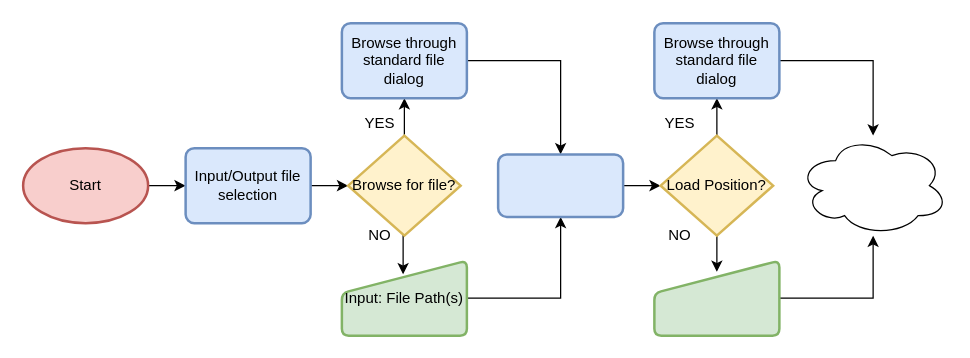
Image size: 970x358. Some labels were removed from this diagram. The centre of each missing label's shape, as x and y in pixels:
"E, F, G Coordinate selection" belongs at [560,185].
"Error Checking" belongs at [872,185].
"Input: E, F, and G" belongs at [716,297].
